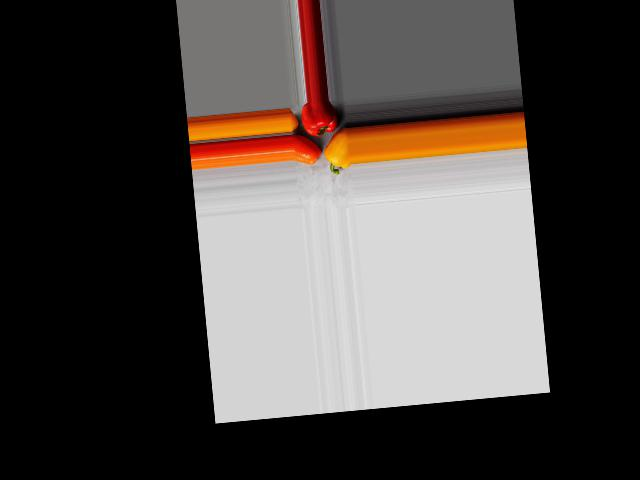bell_pepper: (299, 100, 341, 138)
